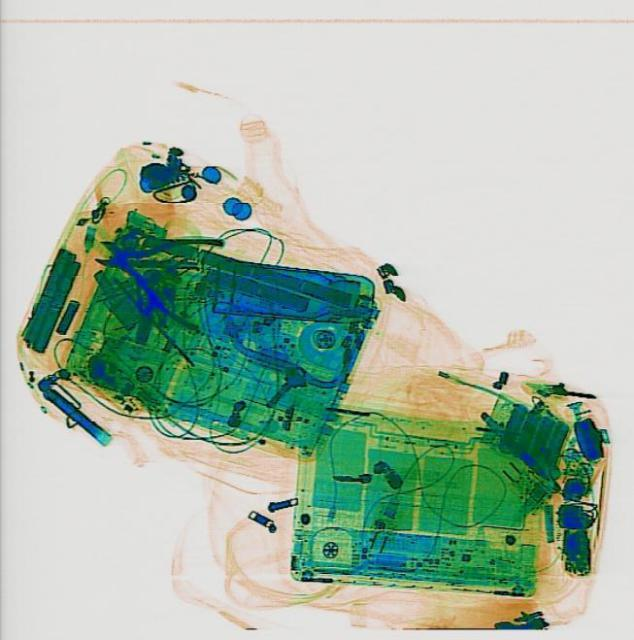Pliers: (78, 205, 231, 332)
